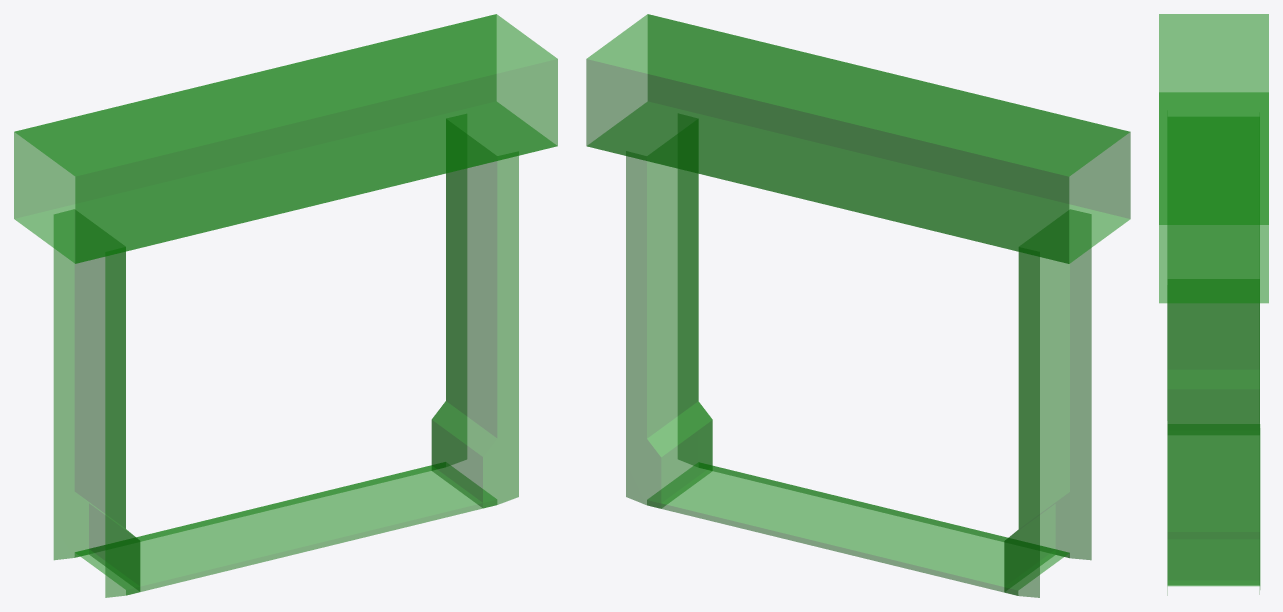
The model's file is Wall_2.obj.
The picture shows the model from 3 angles, left to right: view 1: azimuth 30°, elevation 25°; view 2: azimuth 150°, elevation 25°; view 3: azimuth 270°, elevation 25°; orthographic projection. The views are drawn at different scales.
Bounding box in the file's own units: 7 × 6.05 × 1.54.
